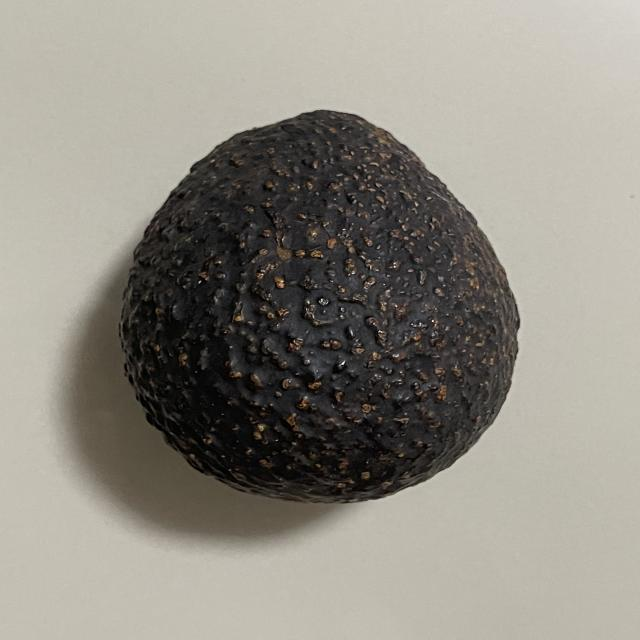Level2: (108, 98, 526, 510)
